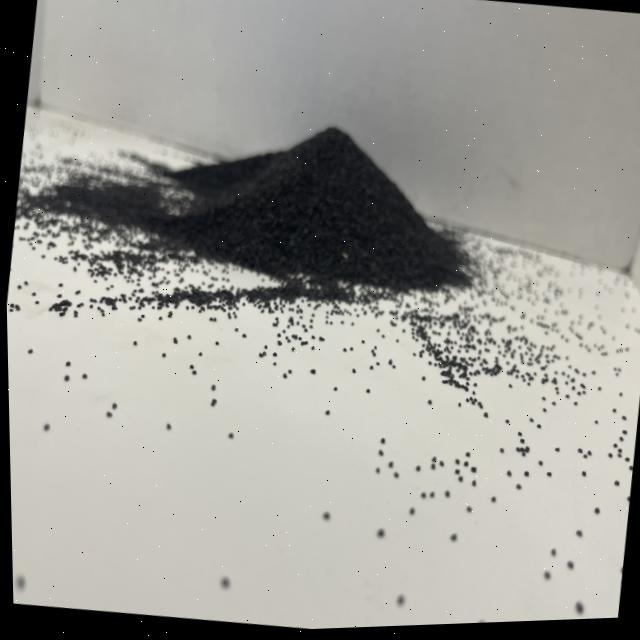Poppy Seeds: (22, 46, 513, 350)
